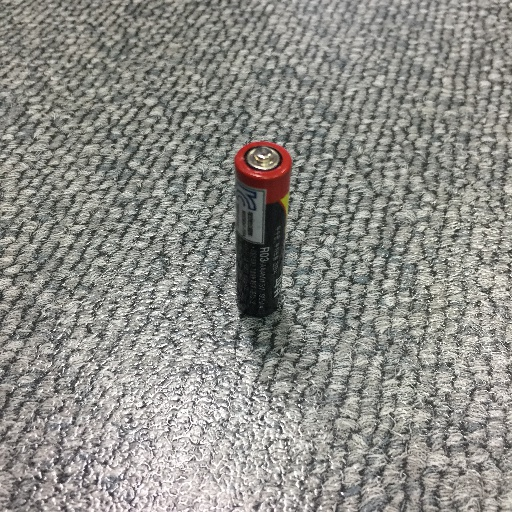Battery_0: (223, 133, 300, 331)
